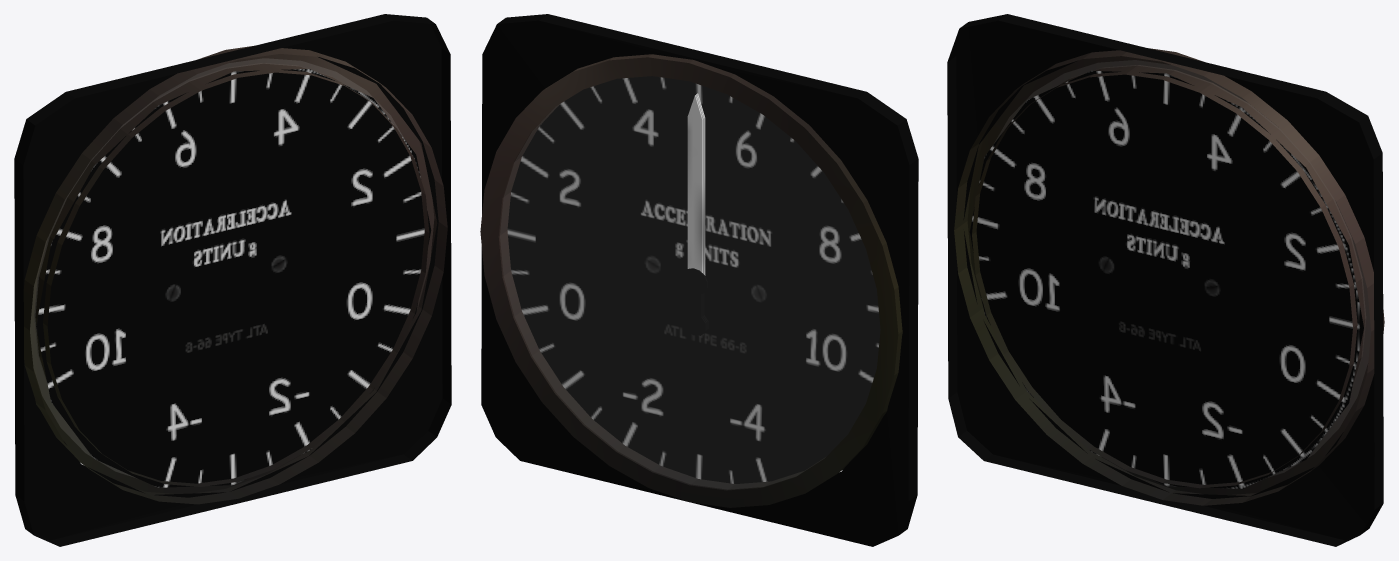
File: gmeter.obj
3 views of the same model, side by side, from view 1: azimuth 30°, elevation 25°; view 2: azimuth 150°, elevation 25°; view 3: azimuth 330°, elevation 25° (orthographic).
Visible parts, largest first — view 1: face, fond, vitre; view 2: face, vitre, fond, g-Needle1; view 3: face, fond, vitre.
Boxes of the visible parts, x1,y1,x2,y2 form: face: (36, 69, 431, 487); fond: (14, 14, 451, 546); vitre: (30, 59, 399, 475); face: (507, 76, 880, 483); vitre: (500, 77, 879, 488); fond: (480, 14, 918, 546); g-Needle1: (681, 95, 707, 335); face: (969, 70, 1363, 488); fond: (947, 14, 1384, 546); vitre: (997, 60, 1370, 475).
Size of the model in its own units: 0.0399 by 0.0396 by 0.00219.
2 materials, 1 textured.
